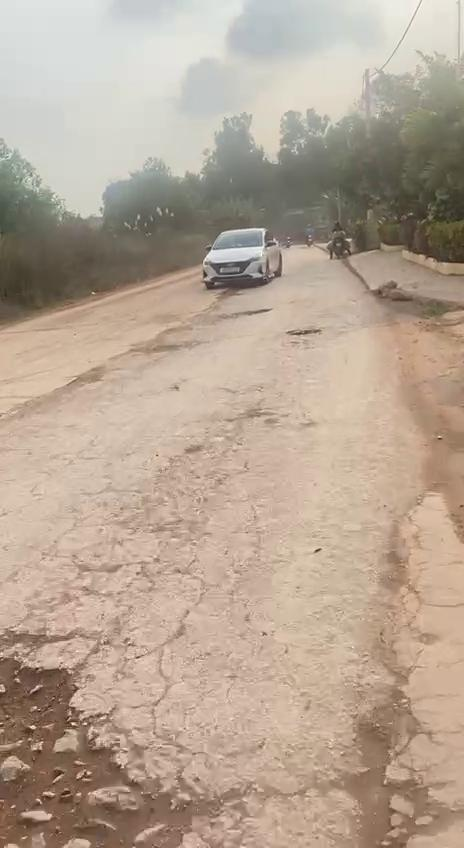pothole: (0, 638, 186, 848), (344, 674, 442, 848)
